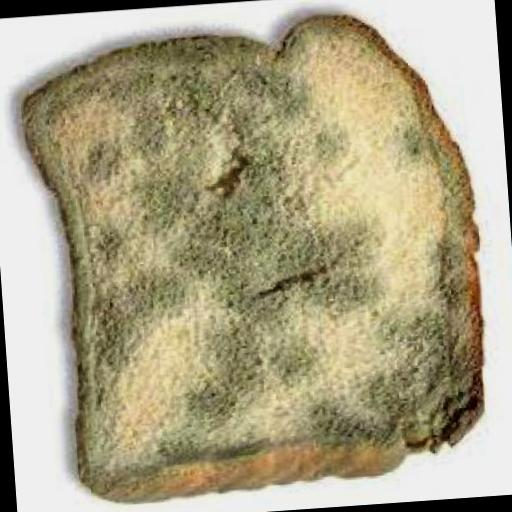biodegradable: (21, 6, 496, 511)
